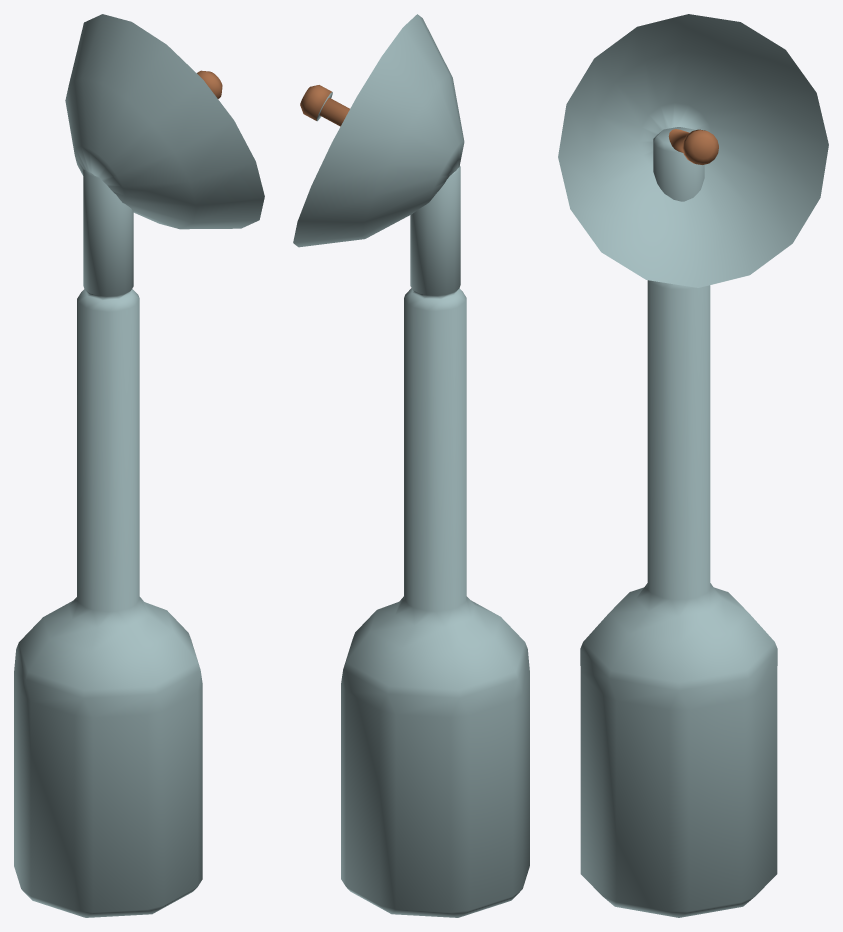
Rendered from comms_tower.fbx.
The picture shows the model from 3 angles, left to right: view 1: azimuth 30°, elevation 25°; view 2: azimuth 150°, elevation 25°; view 3: azimuth 270°, elevation 25°; orthographic projection. The views are drawn at different scales.
Visible parts, largest first — view 1: CommsTower; view 2: CommsTower; view 3: CommsTower.
Boxes of the visible parts, x1,y1,x2,y2 form: CommsTower: [14, 14, 264, 917]; CommsTower: [293, 14, 529, 917]; CommsTower: [558, 14, 828, 917].
Size of the model in its own units: 239 by 947 by 264.
